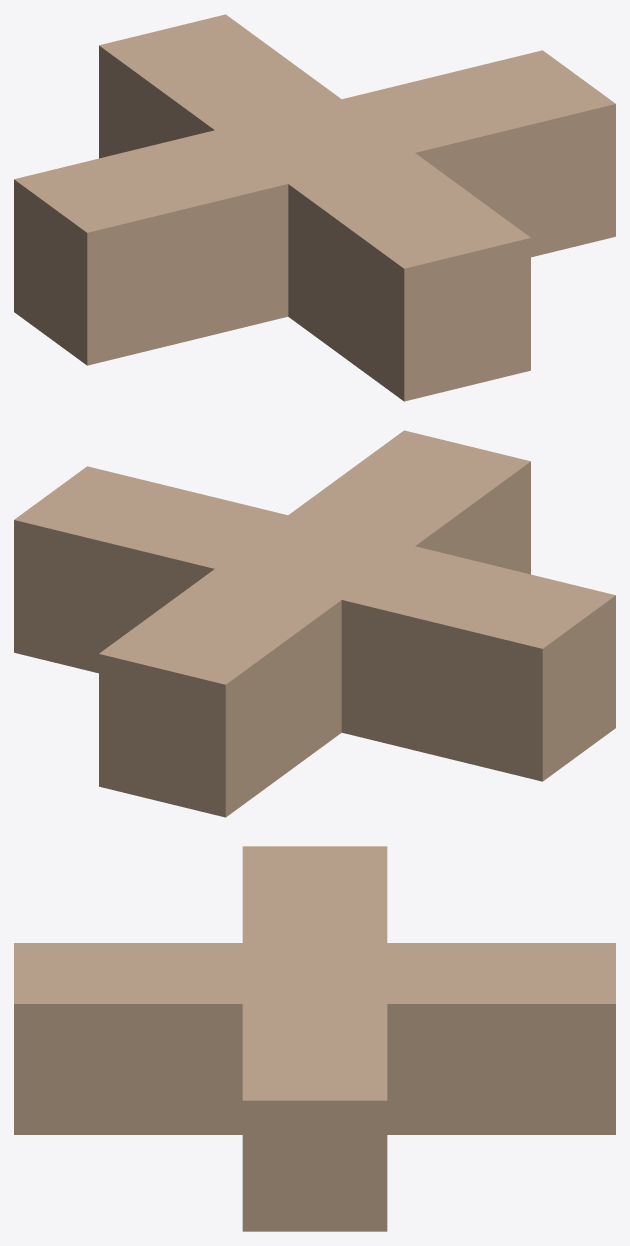
File: X-mark.fbx
3 views of the same model, one above another, from view 1: azimuth 30°, elevation 25°; view 2: azimuth 150°, elevation 25°; view 3: azimuth 270°, elevation 25° (orthographic).
Visible parts, largest first — view 1: polySurface59; view 2: polySurface59; view 3: polySurface59.
Part boxes in pixels (x1,y1,x2,y2): polySurface59: (14, 14, 615, 401); polySurface59: (14, 430, 615, 817); polySurface59: (14, 846, 615, 1231).
Size of the model in its own units: 4.17 by 1 by 4.17.
